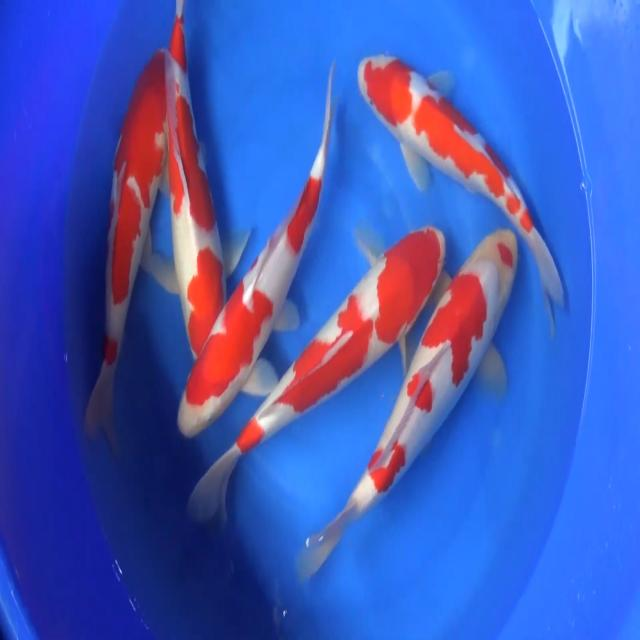Kohaku: (185, 224, 447, 530), (295, 226, 519, 581), (177, 59, 336, 439), (356, 51, 566, 337), (136, 0, 250, 372), (83, 45, 175, 438)
